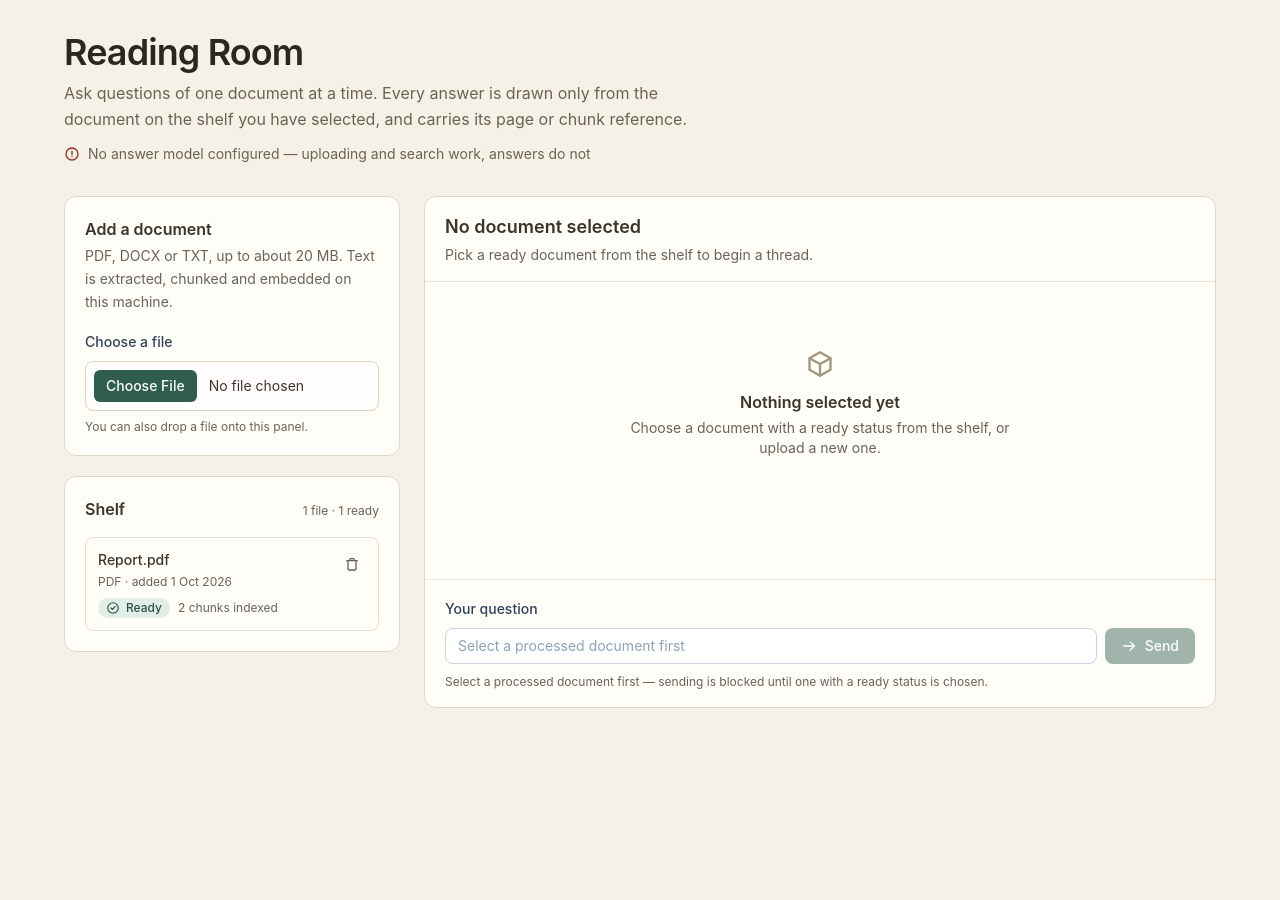
Scenario: Home screen › AC-050: a model_configured=false ask shows the plain no-model notice, never the backend's answer text, and carries no source
Click the text "Report.pdf": point(134, 560) [98, 551, 170, 568]
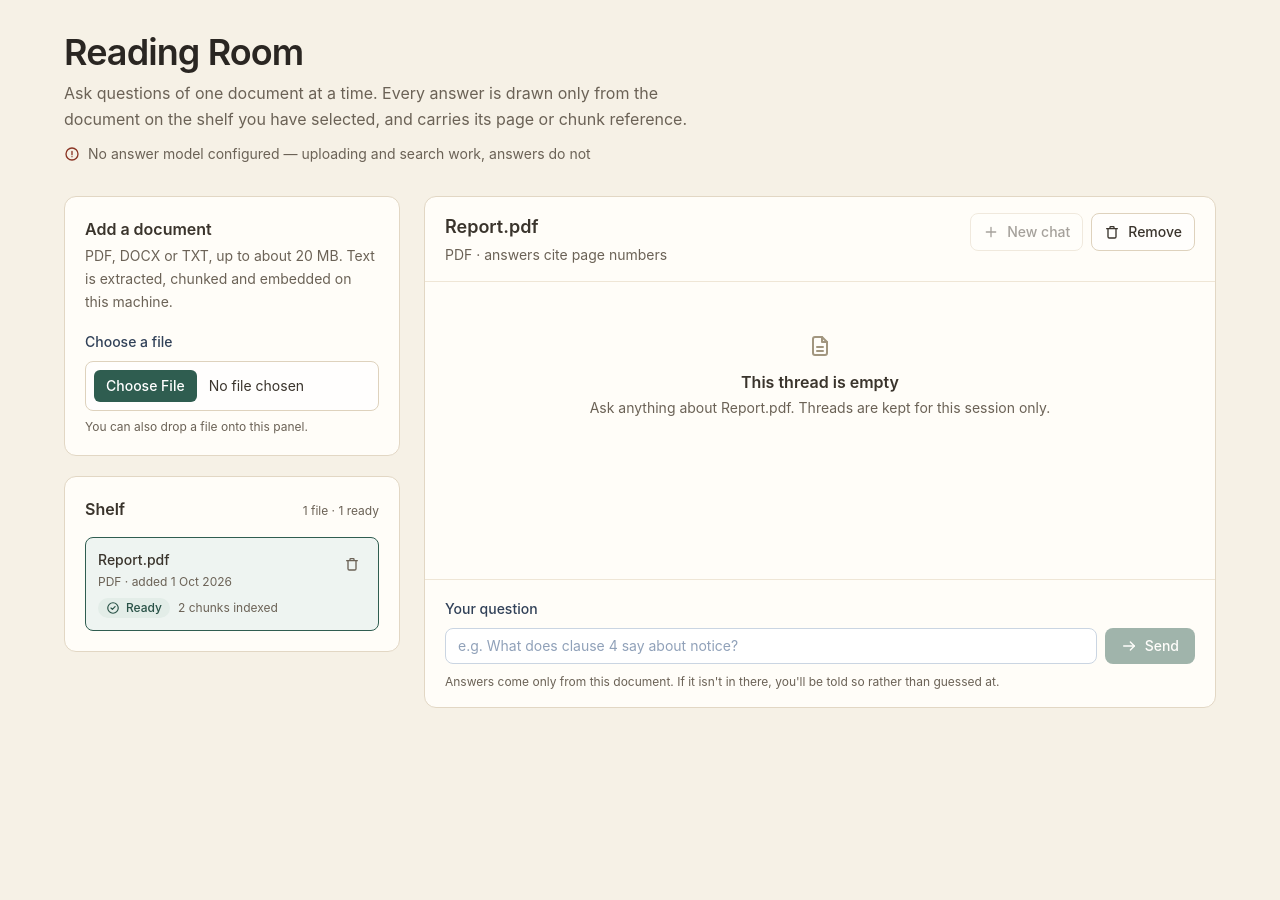
In the field labelled "Your question": point(771, 646) [445, 628, 1097, 664], type "What does clause 4 say?"
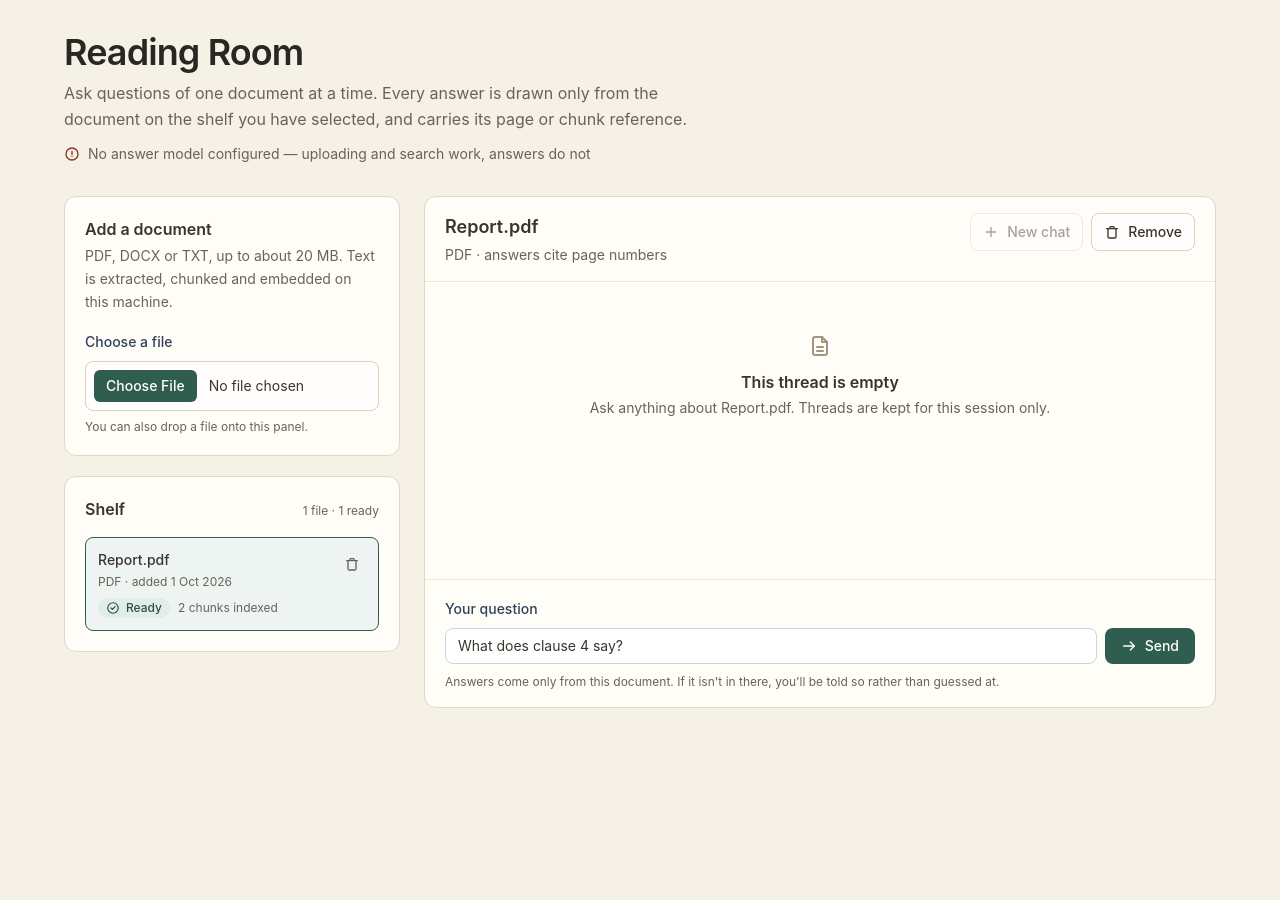
Submit the form labelled "Your question", box [425, 578, 1215, 707]
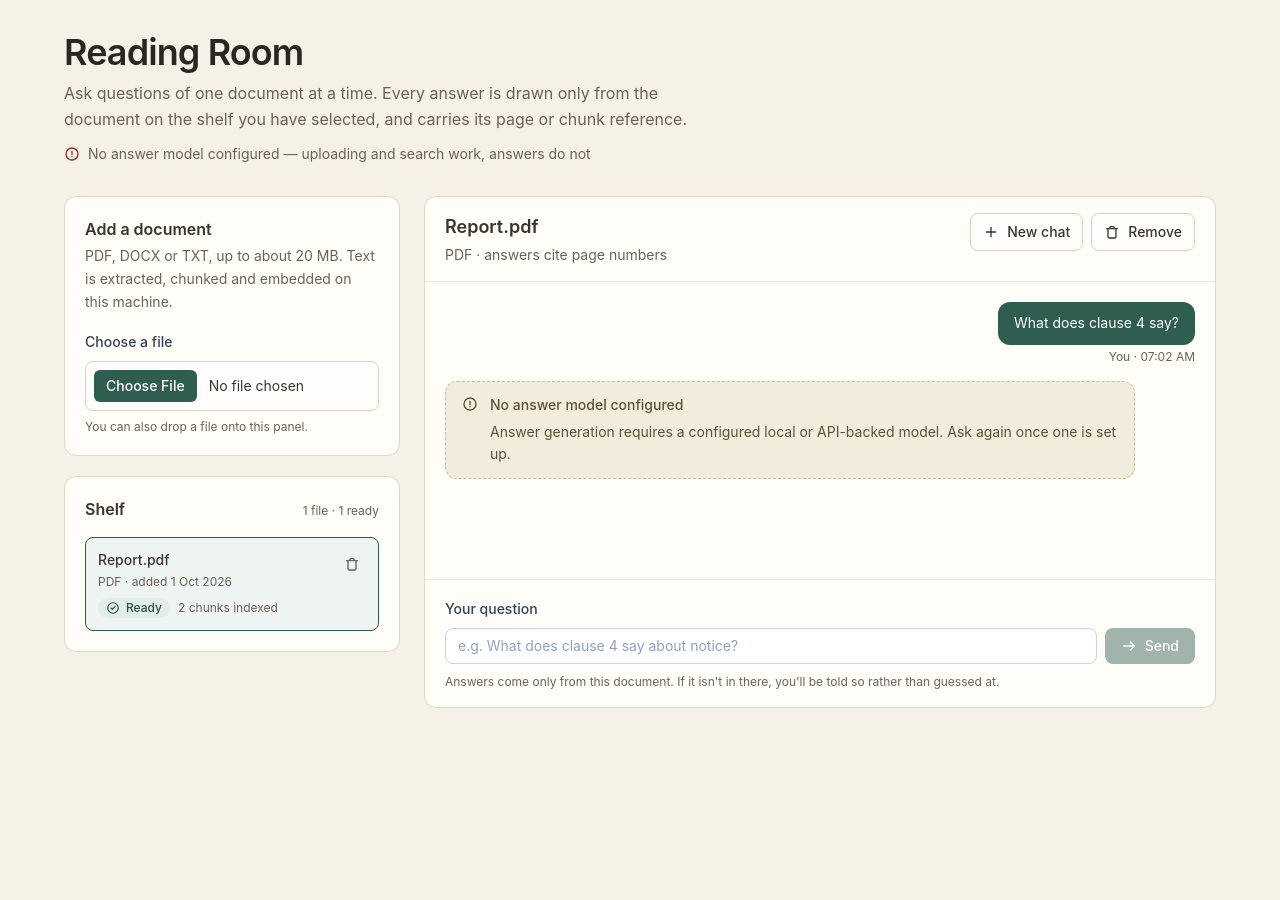
Check: the text "No answer model configured" is shown, box [490, 396, 683, 413]
Check: the text "Answer generation requires a configured local or API-backed model. Ask again once one is set up." is shown, box [490, 422, 1116, 462]
